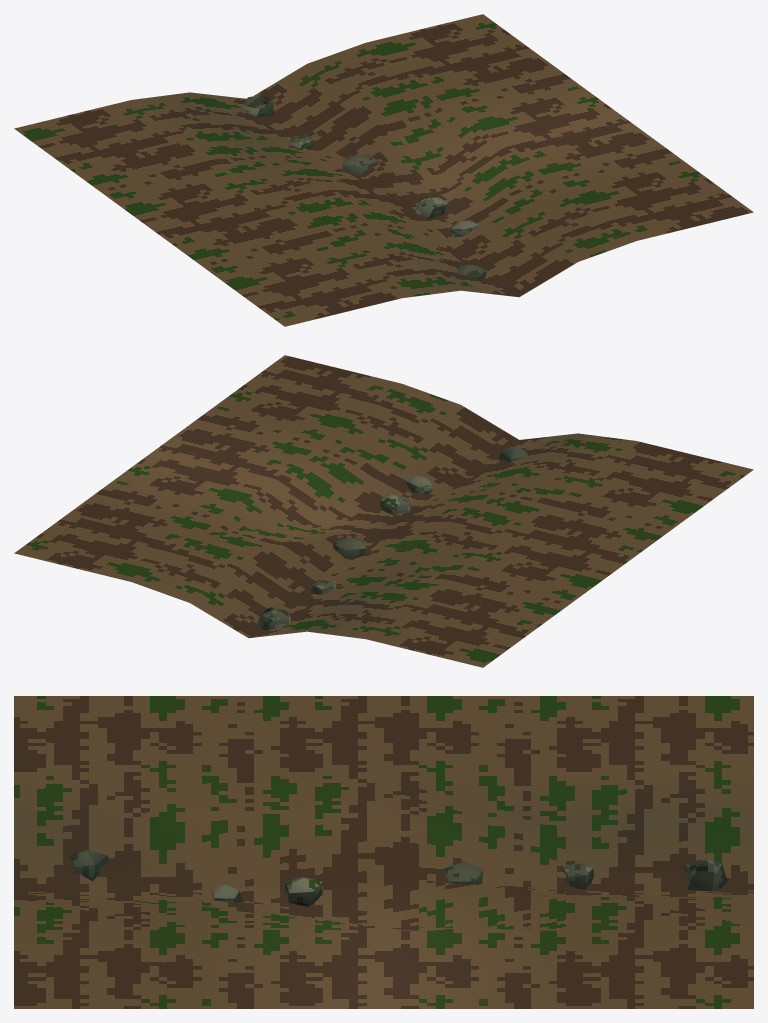
File: land.wash.glb
The picture shows the model from 3 angles, top to bottom: view 1: azimuth 30°, elevation 25°; view 2: azimuth 150°, elevation 25°; view 3: azimuth 270°, elevation 25°; orthographic projection. The views are drawn at different scales.
Parts seen in each view (by area): view 1: kit_shell_ground, kit_pebbles; view 2: kit_shell_ground, kit_pebbles; view 3: kit_shell_ground, kit_pebbles.
Part boxes in pixels (x1,y1,x2,y2): kit_shell_ground: (14, 14, 753, 326); kit_pebbles: (241, 95, 486, 279); kit_shell_ground: (14, 355, 753, 667); kit_pebbles: (257, 446, 527, 630); kit_shell_ground: (14, 696, 753, 1008); kit_pebbles: (70, 850, 727, 906).
Bounding box in the file's own units: 8 × 0.45 × 8.
Materials: 2 (2 with a texture image).
